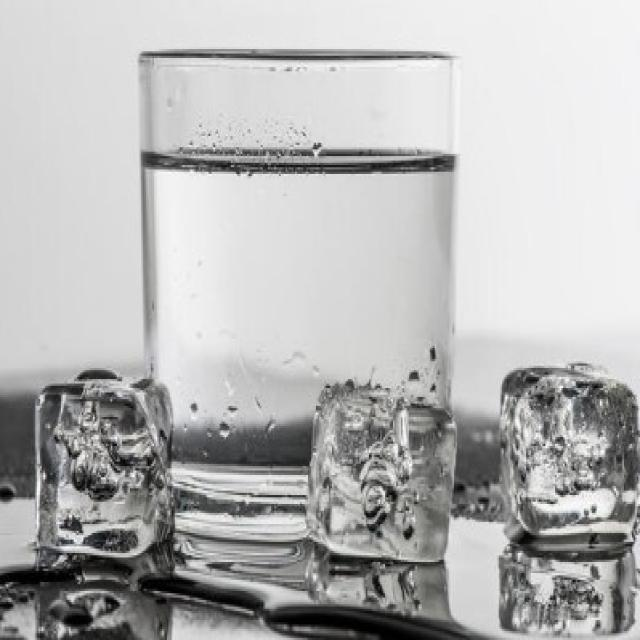electronic: (136, 44, 454, 551)
